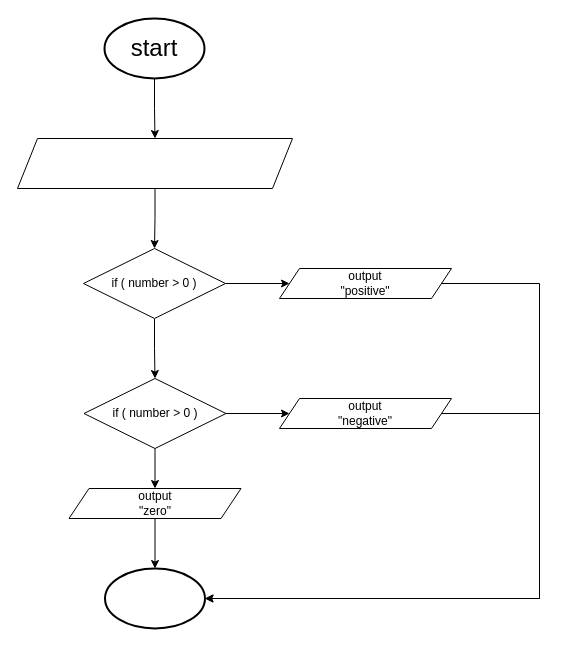
Some shapes in this 565 by 646 pixel diagram are drawn without their labels. The shapes that lost their labels are listed below. From the top down, each one's centre as x and y in pixels, then its label:
At (154,163): "input number".
At (155,598): "end".
